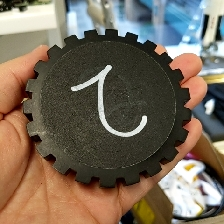gear: (21, 26, 193, 190)
